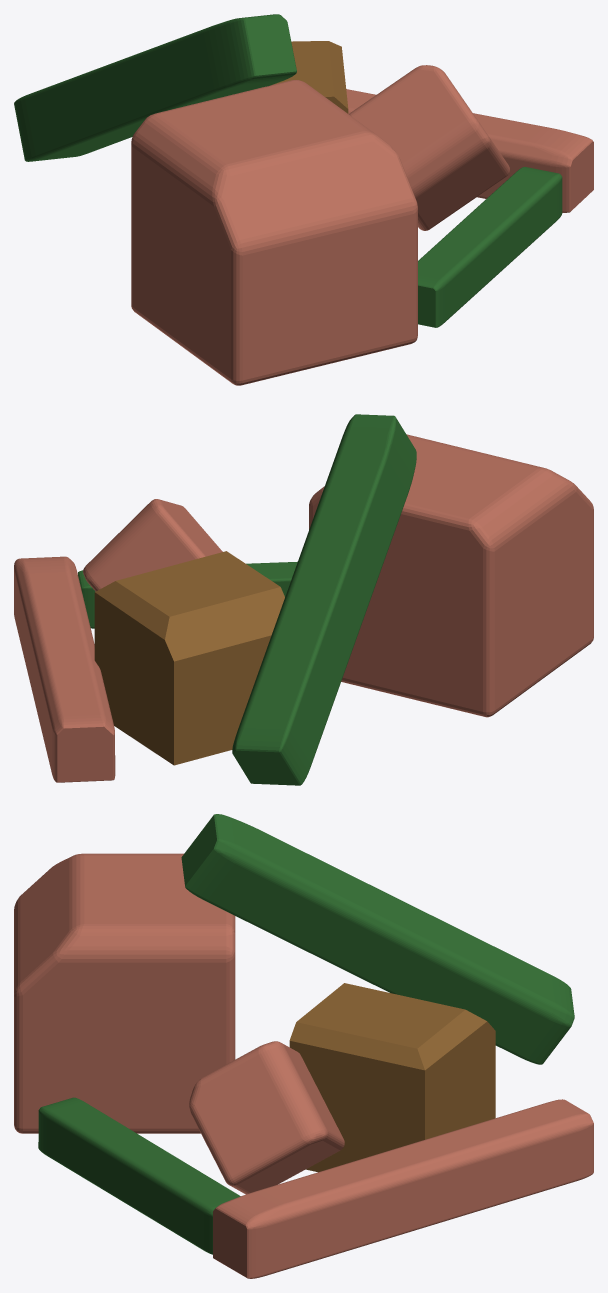
Rendered from vegitables_cooked.fbx.
3 renders of one model, top to bottom at view 1: azimuth 30°, elevation 25°; view 2: azimuth 150°, elevation 25°; view 3: azimuth 270°, elevation 25°, orthographic. The views are drawn at different scales.
Parts seen in each view (by area): view 1: Cube, Cube.001, Cube.005, Cube.003, Cube.004, Cube.002; view 2: Cube, Cube.001, Cube.002, Cube.004, Cube.005, Cube.003; view 3: Cube, Cube.001, Cube.004, Cube.002, Cube.005, Cube.003.
Boxes of the visible parts, bbox=[...] form: Cube: bbox=[131, 80, 417, 385]; Cube.001: bbox=[14, 14, 296, 161]; Cube.005: bbox=[349, 65, 509, 230]; Cube.003: bbox=[418, 167, 562, 327]; Cube.004: bbox=[346, 89, 593, 212]; Cube.002: bbox=[272, 41, 348, 113]; Cube: bbox=[309, 434, 593, 717]; Cube.001: bbox=[232, 414, 416, 785]; Cube.002: bbox=[94, 551, 284, 765]; Cube.004: bbox=[14, 556, 115, 782]; Cube.005: bbox=[83, 499, 222, 591]; Cube.003: bbox=[78, 561, 297, 628]; Cube: bbox=[14, 853, 235, 1133]; Cube.001: bbox=[181, 814, 574, 1064]; Cube.004: bbox=[213, 1099, 593, 1278]; Cube.002: bbox=[289, 983, 495, 1172]; Cube.005: bbox=[189, 1041, 344, 1194]; Cube.003: bbox=[38, 1097, 240, 1254].
Bounding box in the file's own units: 263 × 146 × 271.
